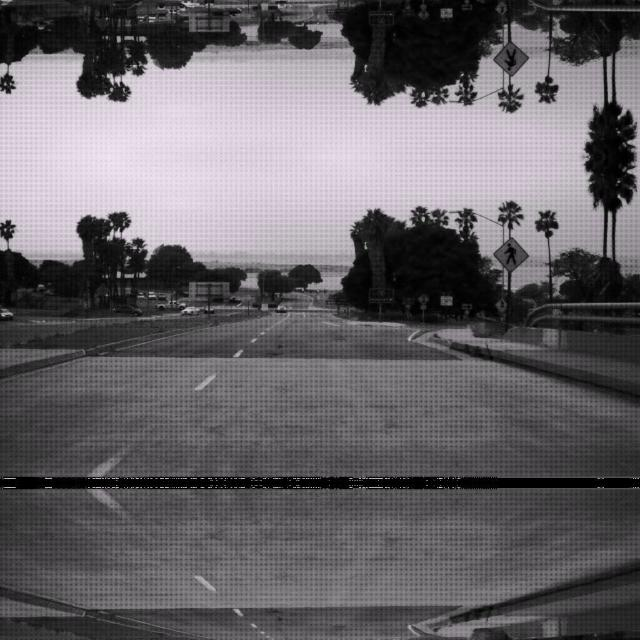pedestrianCrossing: (493, 235, 529, 271), (493, 41, 529, 77)
